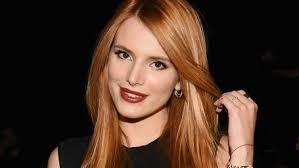No Mask: (90, 10, 233, 154)
